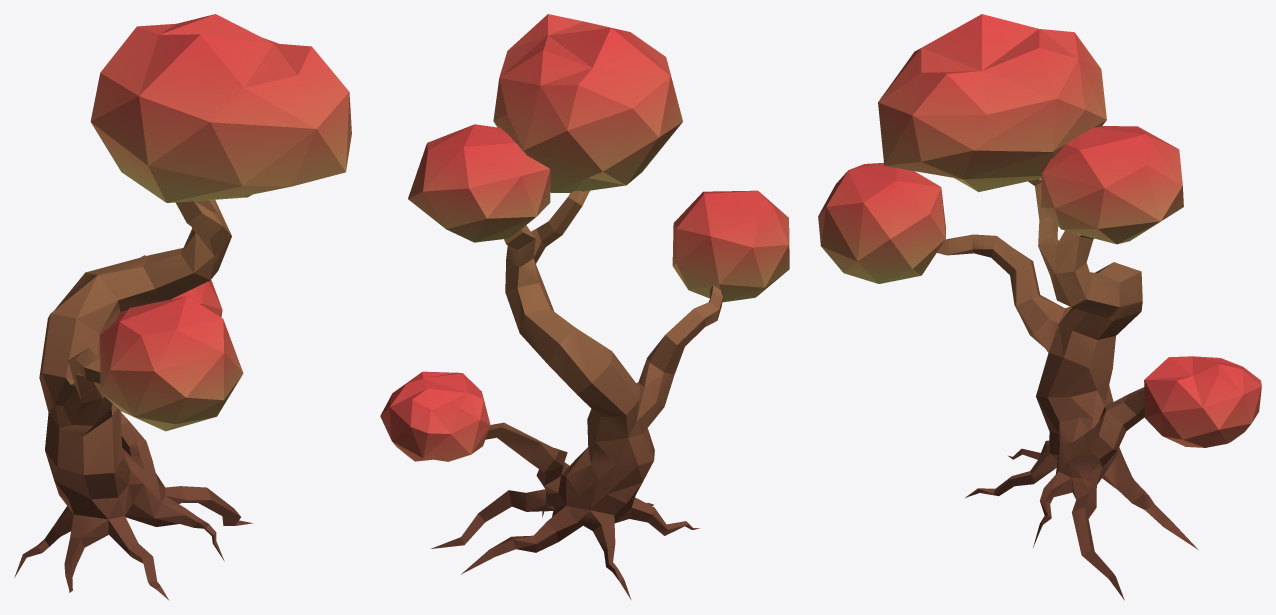
The model's file is ZLP_Plant_D_7.FBX.
3 views of the same model, side by side, from view 1: azimuth 30°, elevation 25°; view 2: azimuth 150°, elevation 25°; view 3: azimuth 270°, elevation 25° (orthographic). The views are drawn at different scales.
Parts seen in each view (by area): view 1: ZLP_Plant_D_7; view 2: ZLP_Plant_D_7; view 3: ZLP_Plant_D_7.
Part boxes in pixels (x1,y1,x2,y2): ZLP_Plant_D_7: [14, 14, 351, 600]; ZLP_Plant_D_7: [380, 14, 789, 599]; ZLP_Plant_D_7: [818, 14, 1261, 600].
Size of the model in its own units: 361 by 670 by 510.
